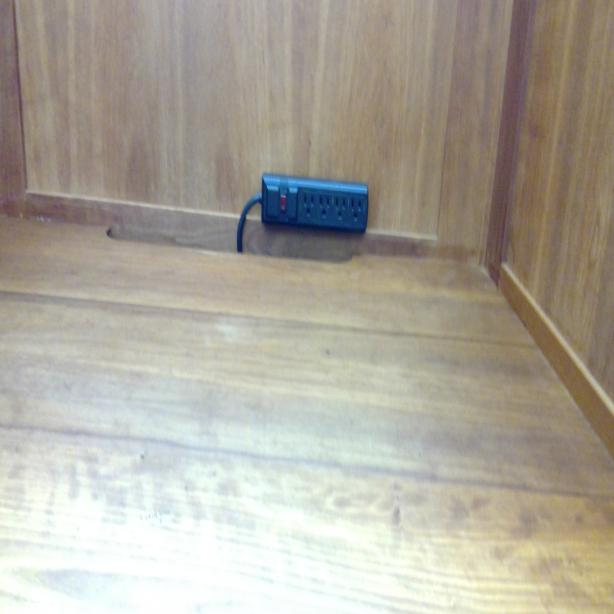typeb: (348, 195, 365, 229), (318, 190, 334, 222), (333, 195, 348, 224), (300, 192, 316, 219)
